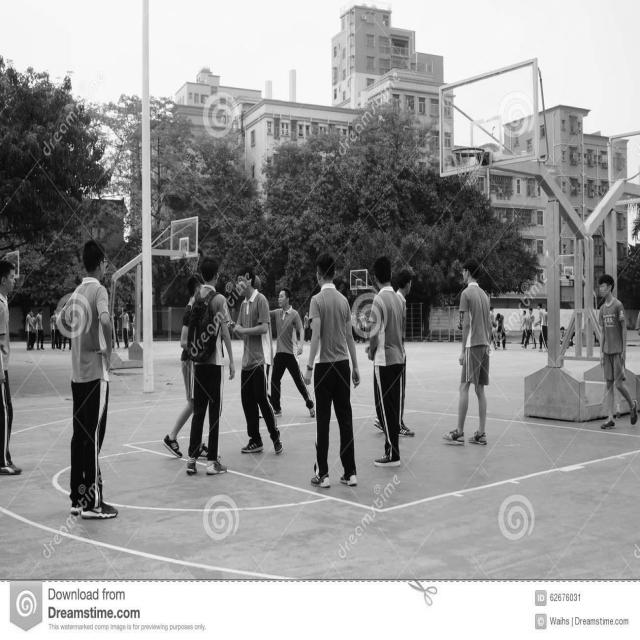person: (55, 241, 122, 519), (163, 260, 239, 477), (303, 256, 362, 488), (224, 269, 284, 463), (360, 261, 412, 470), (445, 260, 495, 446), (178, 263, 229, 417), (593, 272, 639, 430), (268, 287, 316, 421), (1, 253, 26, 478), (490, 304, 510, 356), (535, 296, 551, 357), (26, 309, 44, 352), (520, 307, 536, 348), (34, 308, 48, 352), (300, 307, 314, 341), (518, 302, 528, 346), (124, 303, 132, 353)
